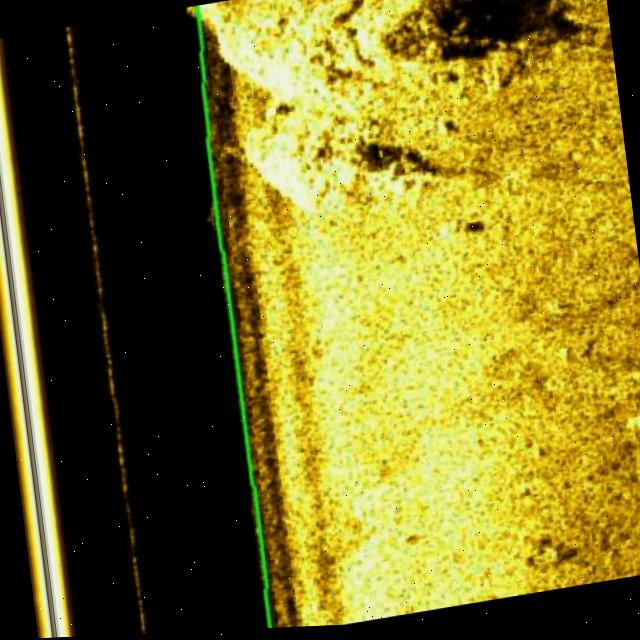bedrock group: (212, 0, 580, 239)
